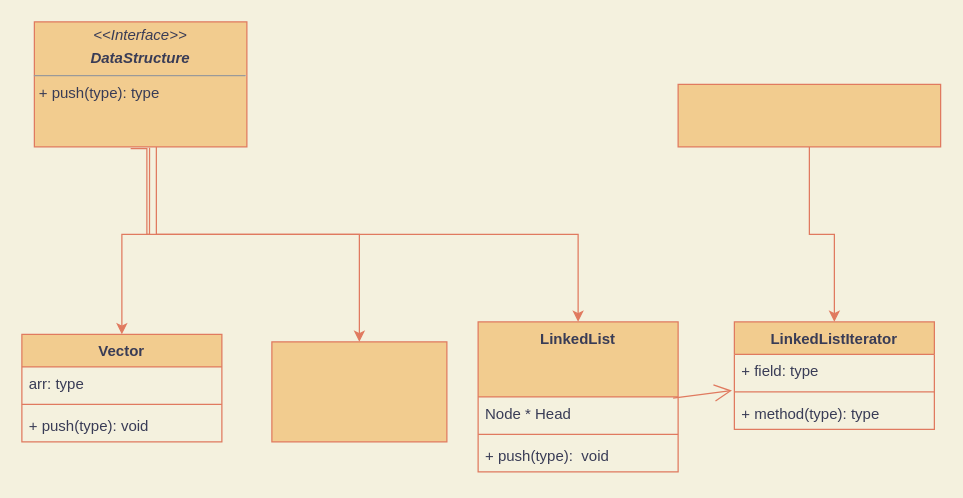
Image size: 963x498. Some labels were removed from this diagram. The shapes that lost their labels are listed below. From the top down, each one's centre as x and y in pixels, then its label:
(809,115): «interface» Iterator
(359,391): «interface» Tree
